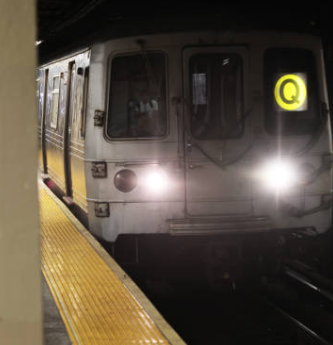train: (87, 32, 332, 243)
